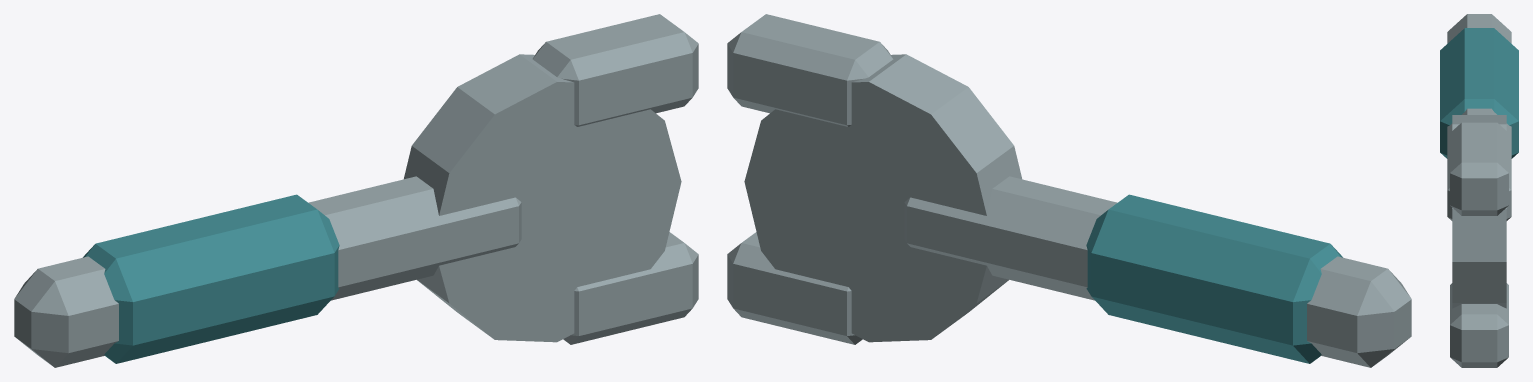
Rendered from Spanner.fbx.
The picture shows the model from 3 angles, left to right: view 1: azimuth 30°, elevation 25°; view 2: azimuth 150°, elevation 25°; view 3: azimuth 270°, elevation 25°; orthographic projection. The views are drawn at different scales.
Visible parts, largest first — view 1: Wrench head, Rubber grip, Wrench handle, Open jaw upper, Open jaw lower; view 2: Wrench head, Rubber grip, Wrench handle, Open jaw upper, Open jaw lower; view 3: Rubber grip, Wrench head, Open jaw upper, Open jaw lower, Wrench handle.
Part boxes in pixels (x1=…): Wrench head: x1=404, y1=54, x2=681, y2=342; Rubber grip: x1=83, y1=194, x2=339, y2=363; Wrench handle: x1=14, y1=176, x2=521, y2=367; Open jaw upper: x1=532, y1=14, x2=698, y2=126; Open jaw lower: x1=563, y1=232, x2=698, y2=344; Wrench head: x1=744, y1=54, x2=1021, y2=342; Rubber grip: x1=1086, y1=194, x2=1342, y2=363; Wrench handle: x1=904, y1=176, x2=1411, y2=367; Open jaw upper: x1=727, y1=14, x2=893, y2=126; Open jaw lower: x1=727, y1=232, x2=862, y2=344; Rubber grip: x1=1440, y1=28, x2=1518, y2=158; Wrench head: x1=1452, y1=115, x2=1506, y2=308; Open jaw upper: x1=1450, y1=122, x2=1508, y2=215; Open jaw lower: x1=1450, y1=283, x2=1508, y2=367; Wrench handle: x1=1447, y1=14, x2=1511, y2=220.
Size of the model in its own units: 0.56 by 0.23 by 0.08.
